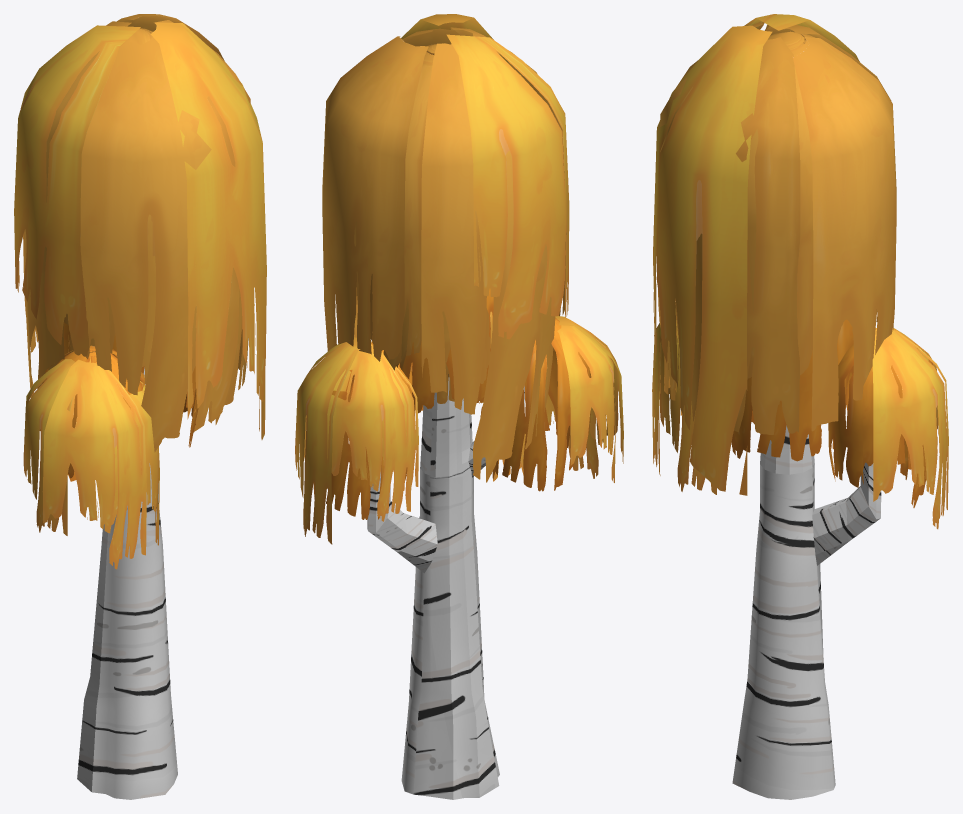
The model's file is Tree 2.FBX.
3 renders of one model, left to right at view 1: azimuth 30°, elevation 25°; view 2: azimuth 150°, elevation 25°; view 3: azimuth 270°, elevation 25°, orthographic.
Visible parts, largest first — view 1: Cylinder006; view 2: Cylinder006; view 3: Cylinder006.
Boxes of the visible parts, x1,y1,x2,y2 form: Cylinder006: [14, 14, 266, 799]; Cylinder006: [295, 14, 623, 799]; Cylinder006: [652, 14, 948, 799].
Bounding box in the file's own units: 24.21 × 70.73 × 25.12.
